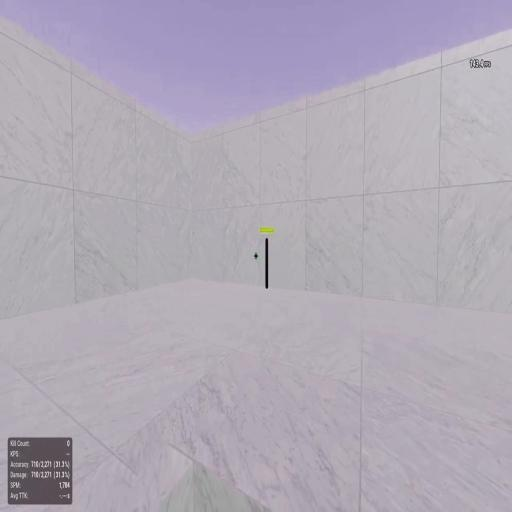Crosshair: (254, 252, 258, 261)
Target: (265, 236, 268, 289)
